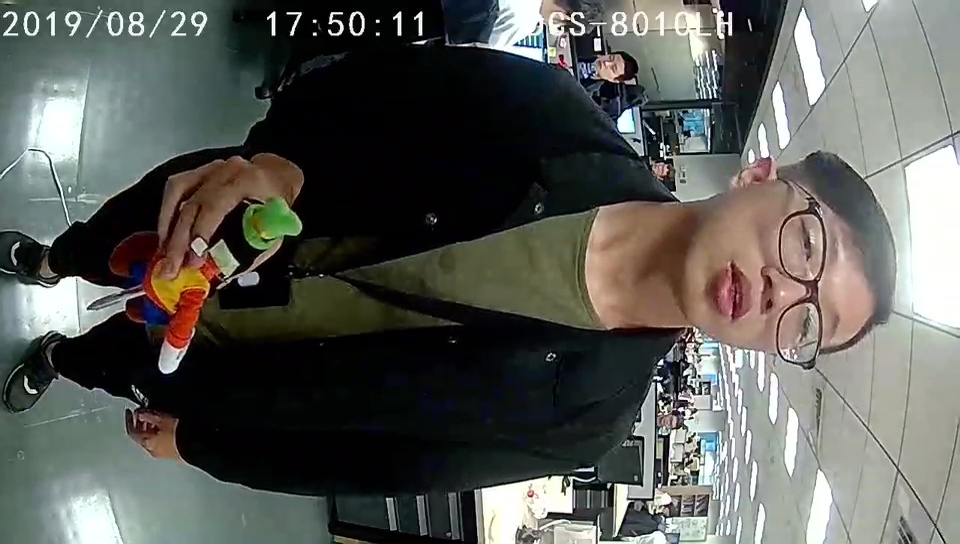goofy: (123, 198, 305, 374)
